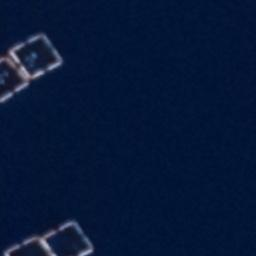square_solid: (5, 27, 67, 85), (36, 213, 101, 256), (1, 49, 35, 108), (1, 231, 62, 256)
